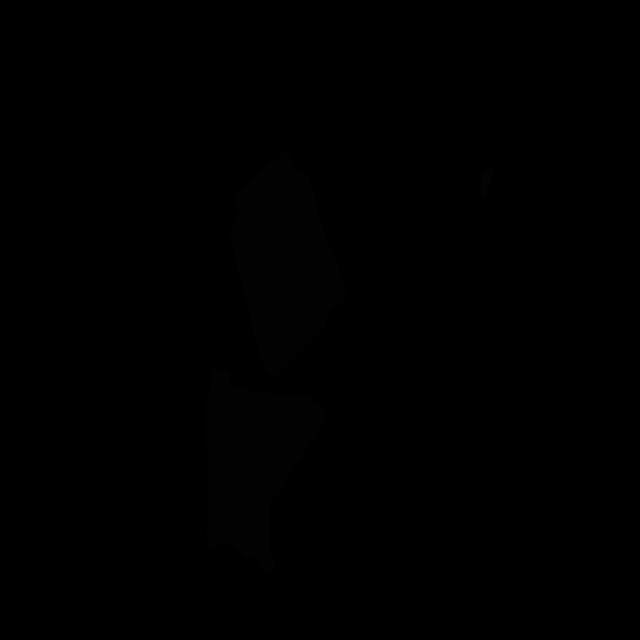cardboard: (229, 148, 348, 378), (206, 369, 326, 571)
metal: (480, 167, 494, 196)
